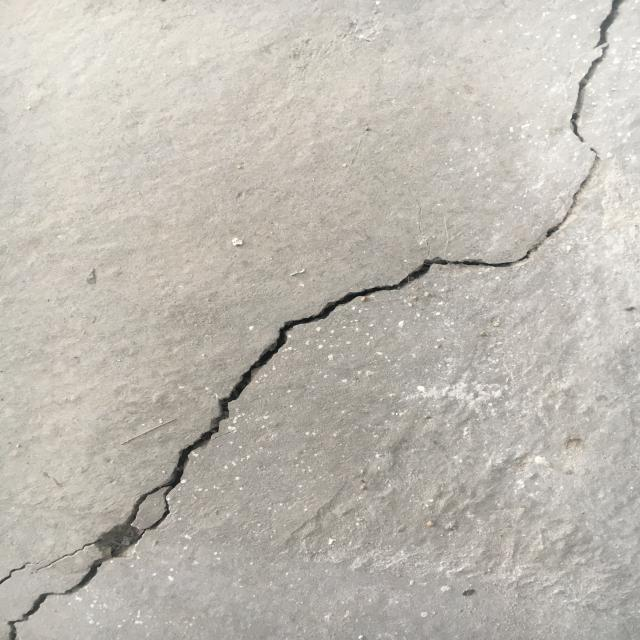Rachadura: (0, 0, 628, 640)
